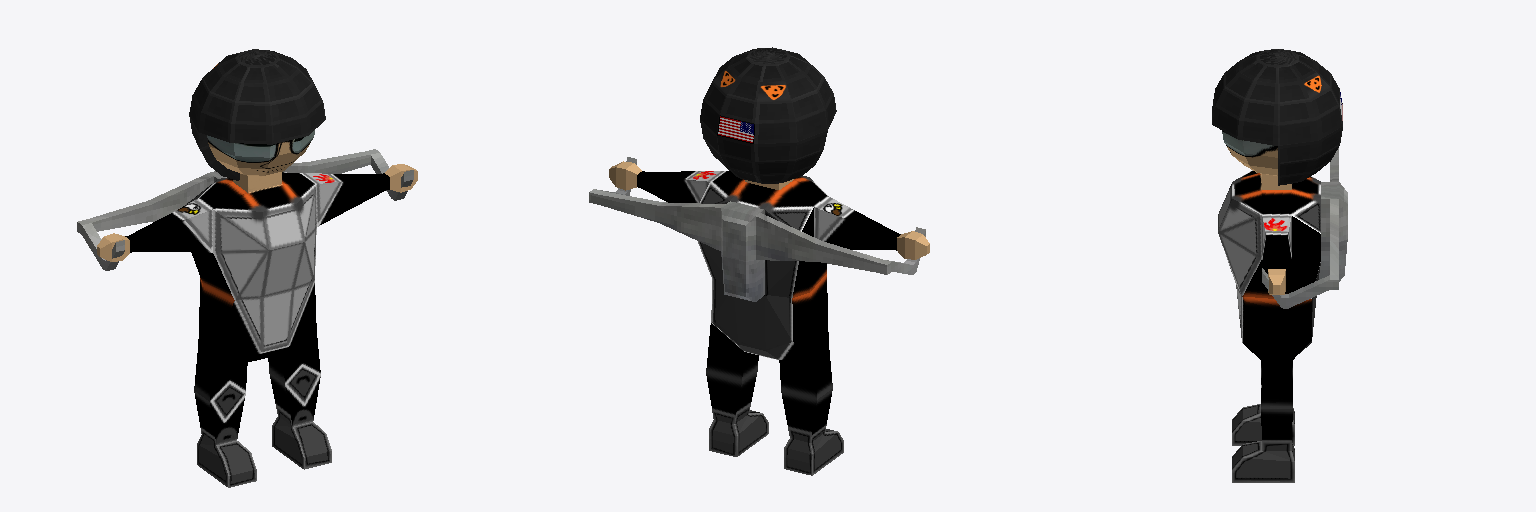
The picture shows the model from 3 angles: view 1: azimuth 30°, elevation 25°; view 2: azimuth 150°, elevation 25°; view 3: azimuth 270°, elevation 25°; orthographic projection.
Parts seen in each view (by area): view 1: polySurface1.008; view 2: polySurface1.008; view 3: polySurface1.008.
Boxes of the visible parts, x1=… form: polySurface1.008: x1=77, y1=49, x2=417, y2=487; polySurface1.008: x1=589, y1=47, x2=929, y2=475; polySurface1.008: x1=1212, y1=49, x2=1347, y2=482.
Size of the model in its own units: 0.1204 by 0.1461 by 0.0444.
Materials: 1 (1 with a texture image).